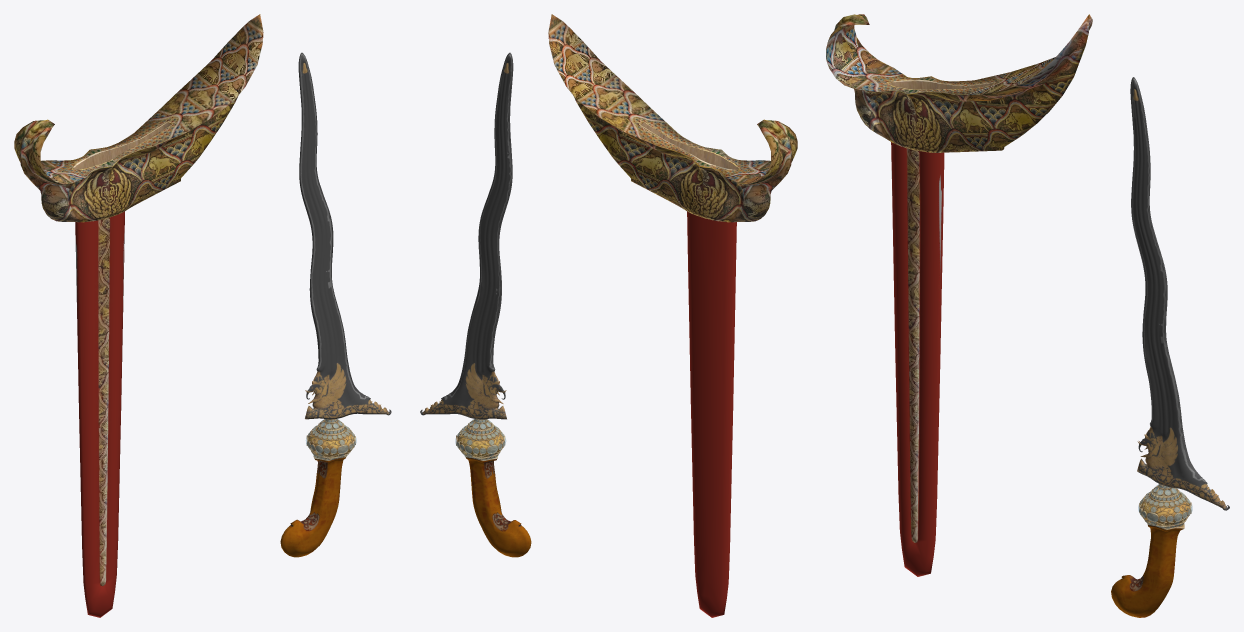
Rendered from mkn01_low.glb.
3 renders of one model, left to right at view 1: azimuth 30°, elevation 25°; view 2: azimuth 150°, elevation 25°; view 3: azimuth 330°, elevation 25°, orthographic. The views are drawn at different scales.
Visible parts, largest first — view 1: mkn01_Kyai Tengara; view 2: mkn01_Kyai Tengara; view 3: mkn01_Kyai Tengara.
Boxes of the visible parts, <box> form: mkn01_Kyai Tengara: <box>14,14,391,617</box>; mkn01_Kyai Tengara: <box>420,14,797,617</box>; mkn01_Kyai Tengara: <box>826,14,1229,617</box>.
Size of the model in its own units: 1.47 by 2.14 by 0.2523.
3 materials, 2 textured.
